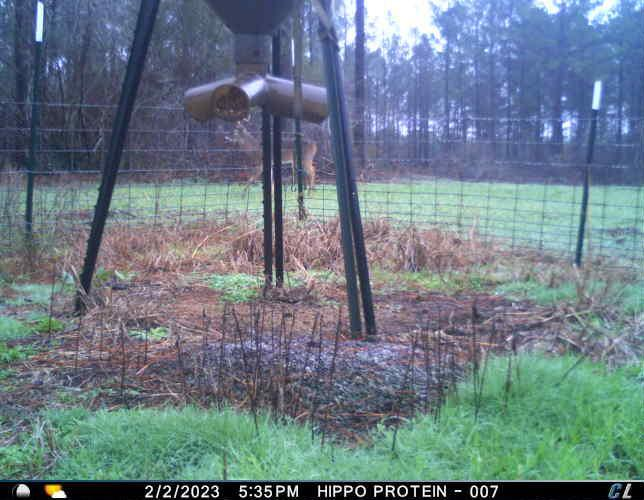Deer: (226, 120, 319, 197)
